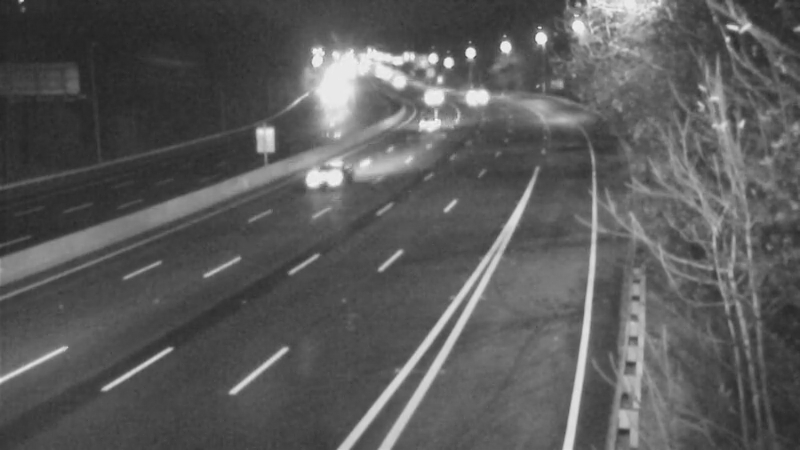vehicle: (286, 140, 366, 220), (370, 56, 420, 106), (405, 70, 455, 120), (448, 70, 498, 120), (409, 101, 459, 151), (308, 72, 358, 122)
